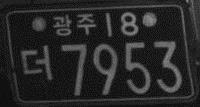1: (104, 10, 114, 39)
3: (152, 39, 182, 94)
5: (124, 41, 151, 95)
7: (60, 42, 88, 98)
8: (120, 11, 138, 37)
9: (91, 42, 118, 96)
광주_O: (52, 12, 96, 38)
더: (19, 44, 53, 83)
